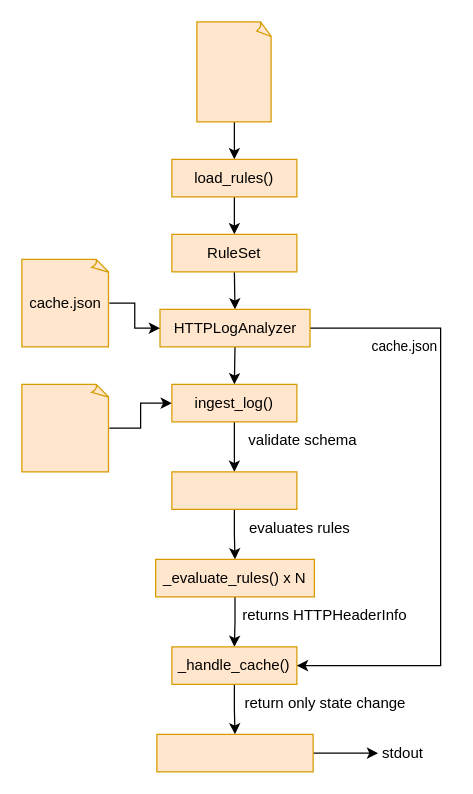
This 473x794 diagram has some shape labels left out. Each missing label, with the centre of its shape:
check_headers(): the point at 234,490
HTTP Monitor log line: the point at 65,427
list[HTTPHeaderInfo]: the point at 234,752
YAML rule files: the point at 234,71
